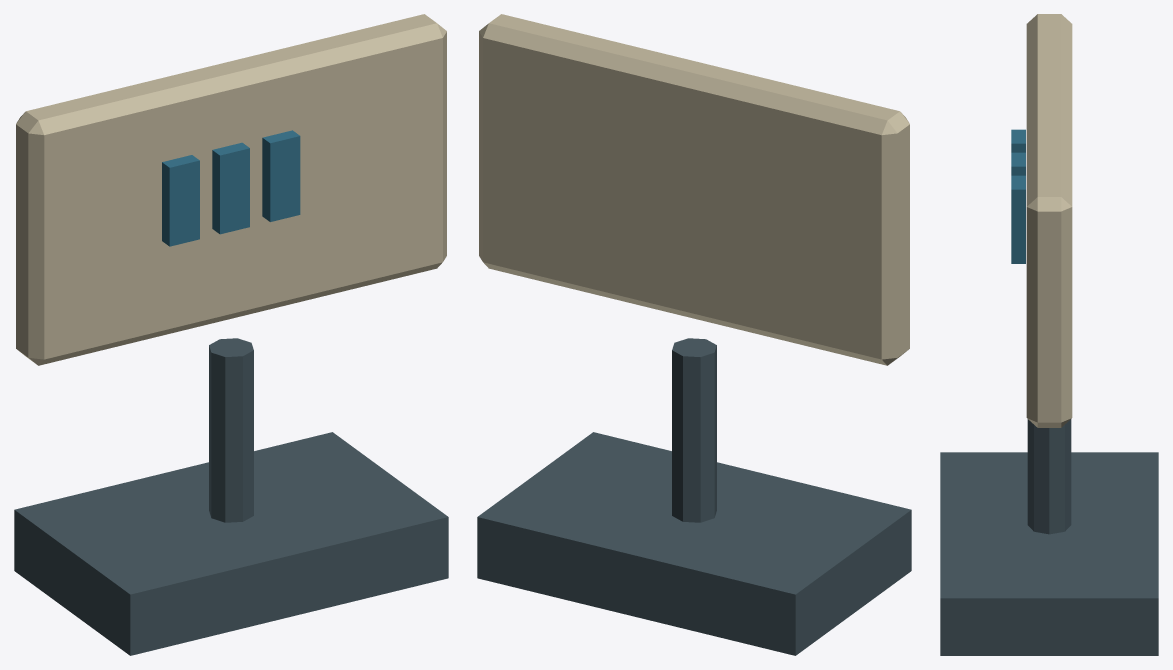
Rendered from set_reserved_sign.glb.
The picture shows the model from 3 angles, left to right: view 1: azimuth 30°, elevation 25°; view 2: azimuth 150°, elevation 25°; view 3: azimuth 270°, elevation 25°; orthographic projection. The views are drawn at different scales.
Visible parts, largest first — view 1: set_reserved_sign; view 2: set_reserved_sign; view 3: set_reserved_sign.
Boxes of the visible parts, <box> form: set_reserved_sign: <box>14,14,448,655</box>; set_reserved_sign: <box>477,14,911,655</box>; set_reserved_sign: <box>940,14,1158,655</box>.
Size of the model in its own units: 0.25 by 0.2895 by 0.12.
